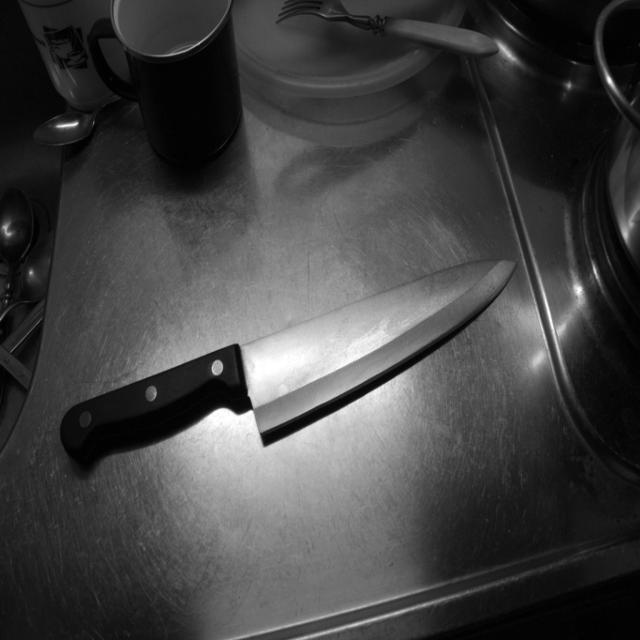Knife: (61, 260, 515, 463)
